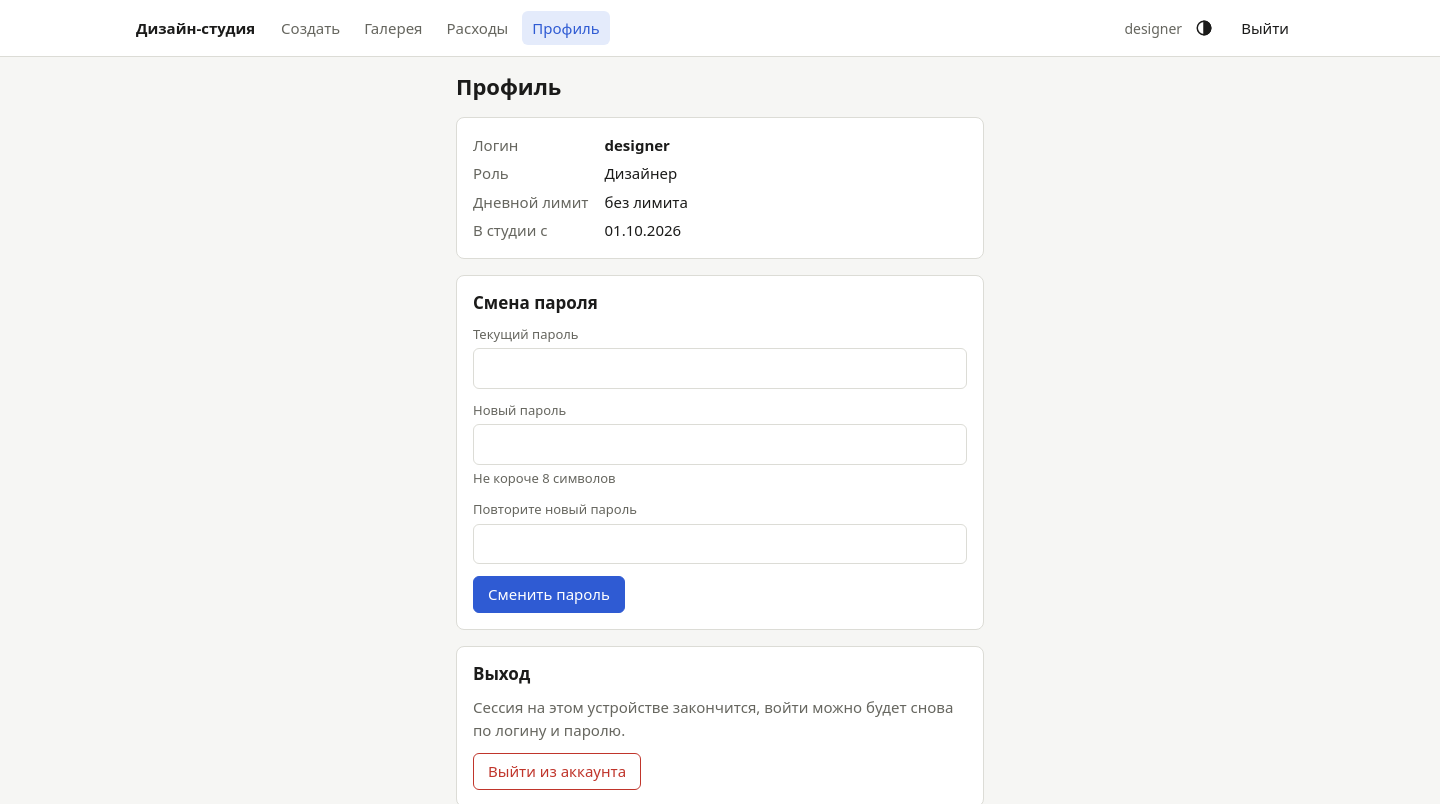
профиль › неверный старый пароль показывает понятную ошибку
In the password field labelled "Текущий пароль": (720, 369) [473,348,967,389], type "wrong-old-password"
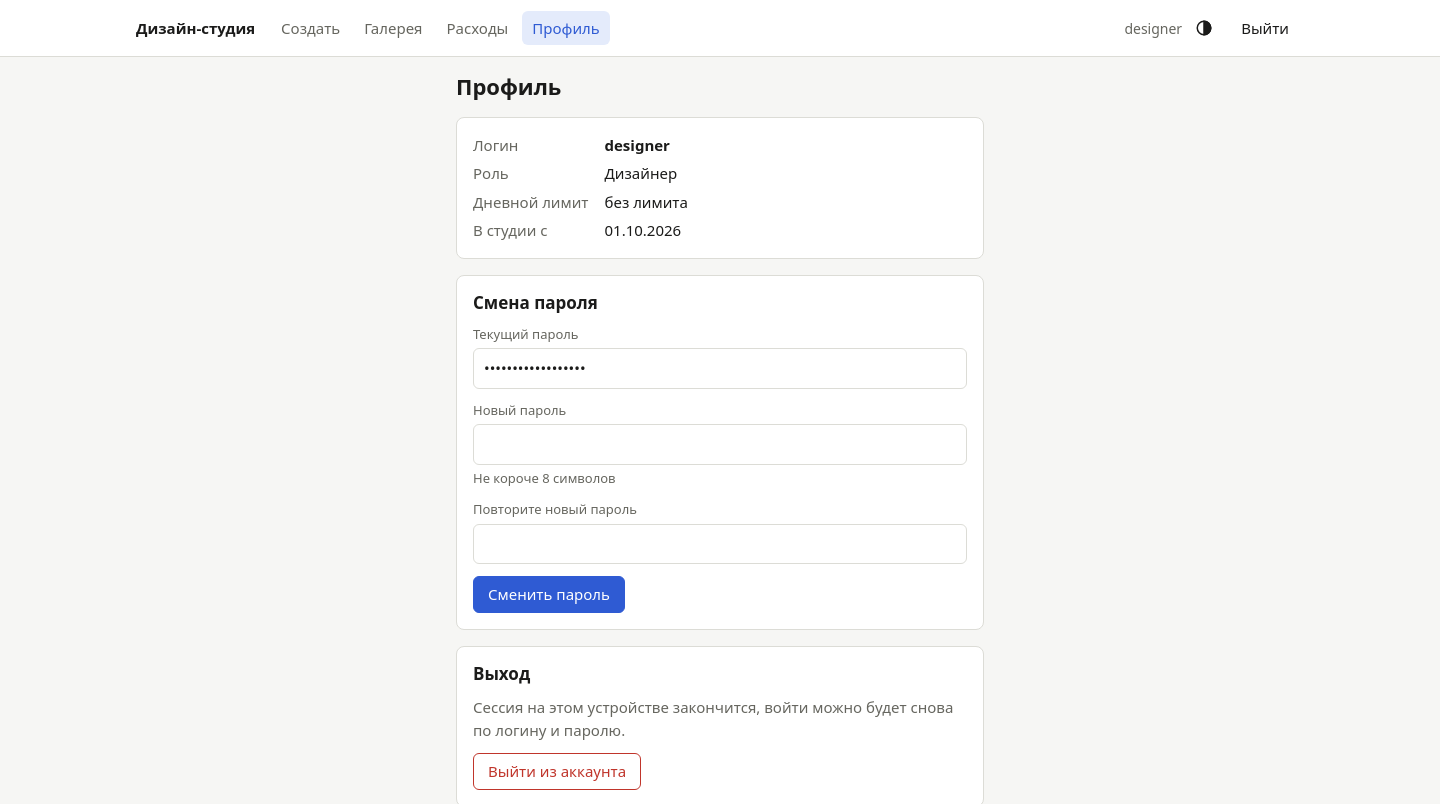
In the password field labelled "Новый пароль": (720, 445) [473,424,967,465], type "new-password-1"
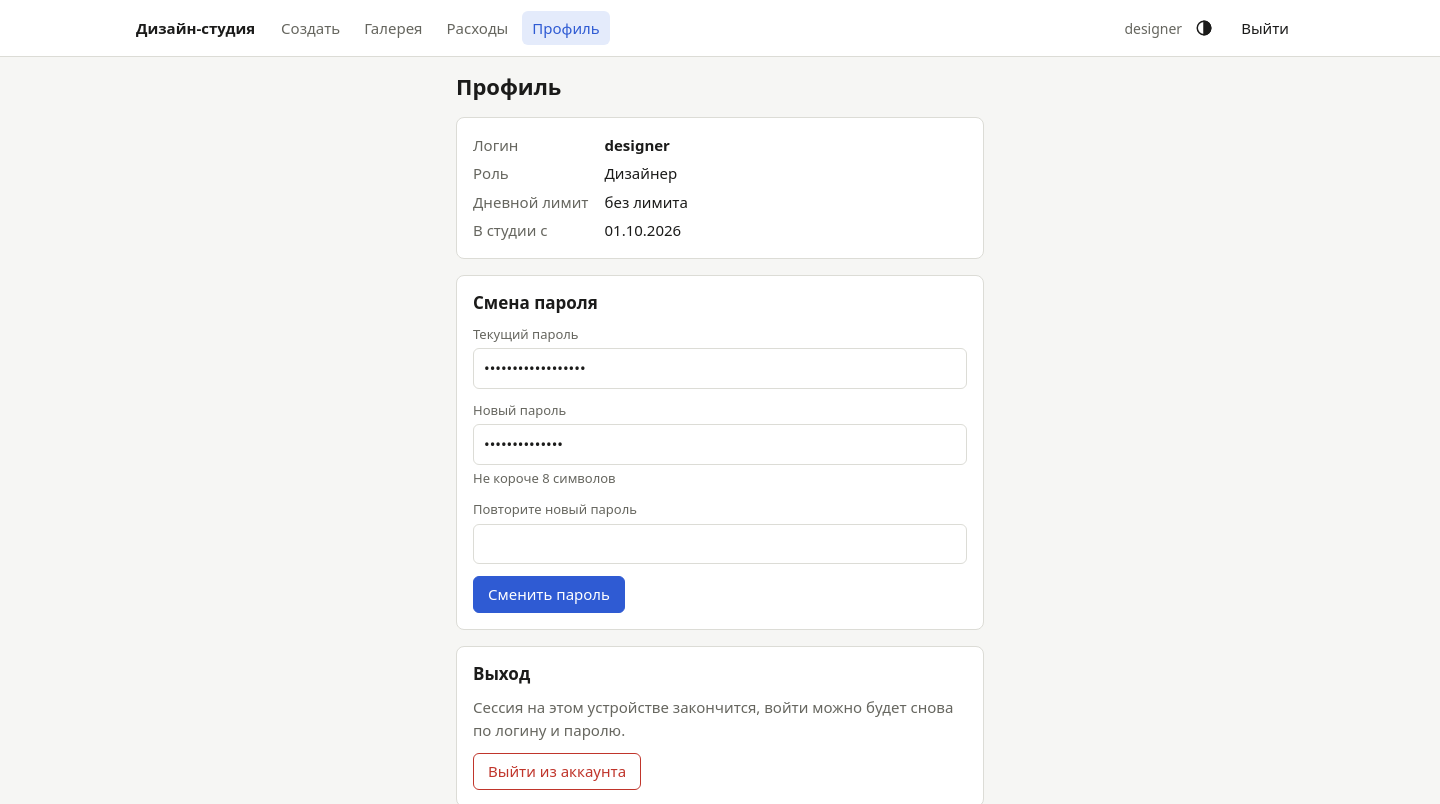
In the password field labelled "Повторите новый пароль": (720, 544) [473,524,967,564], type "new-password-1"
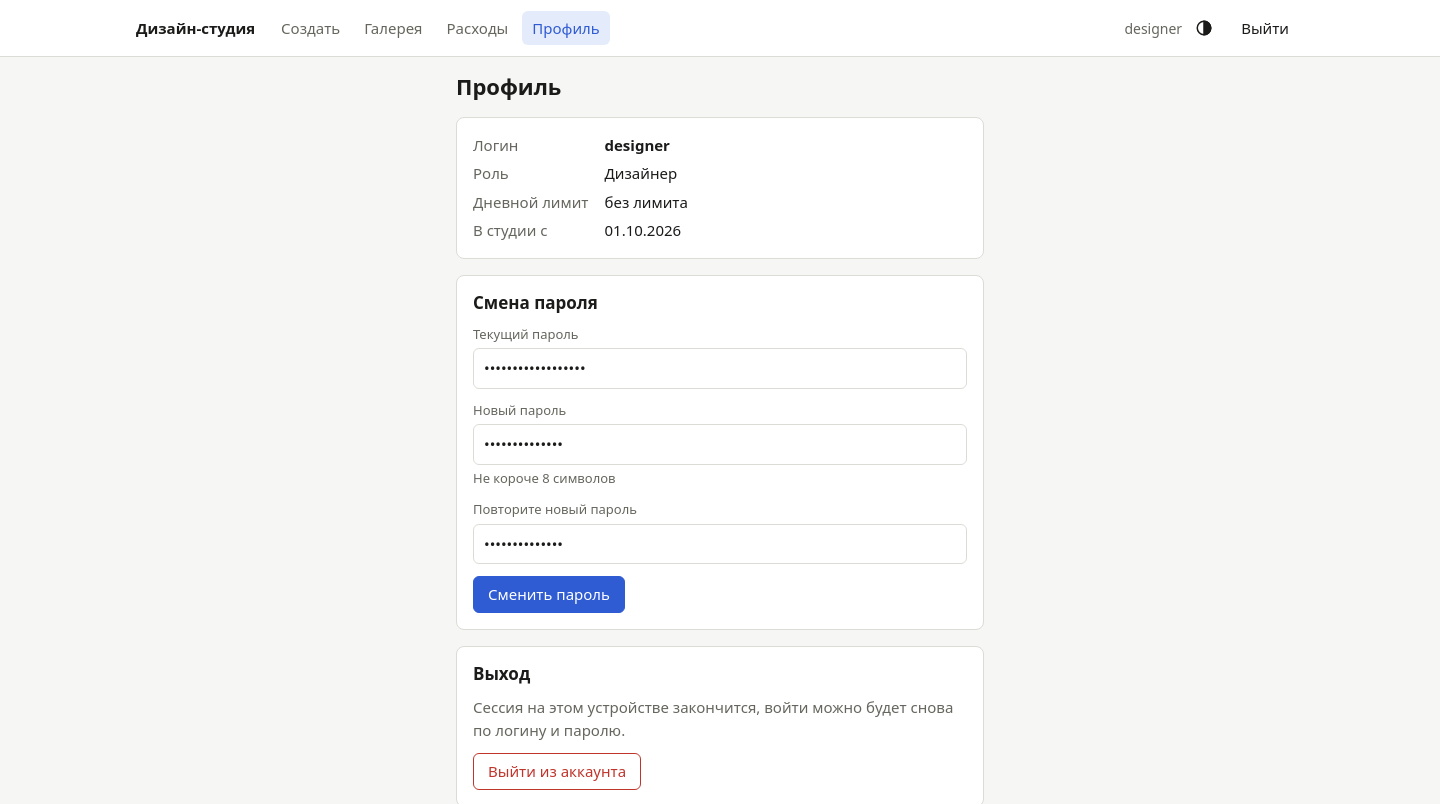
Submit the form with test id "pw-form", box [456,274,984,630]
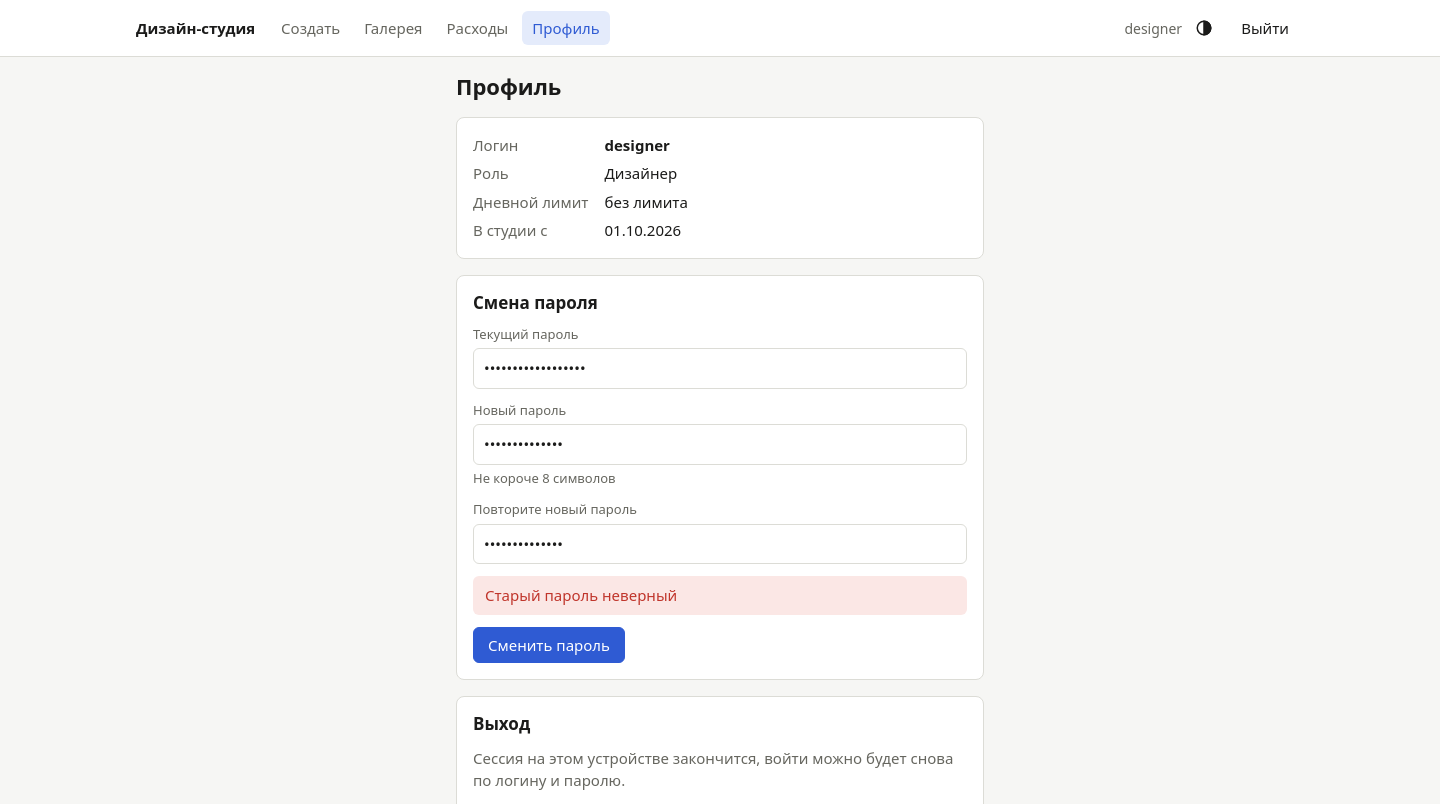
Now the message with test id "pw-error" reads "Старый пароль неверный", box [485,585,677,605]
